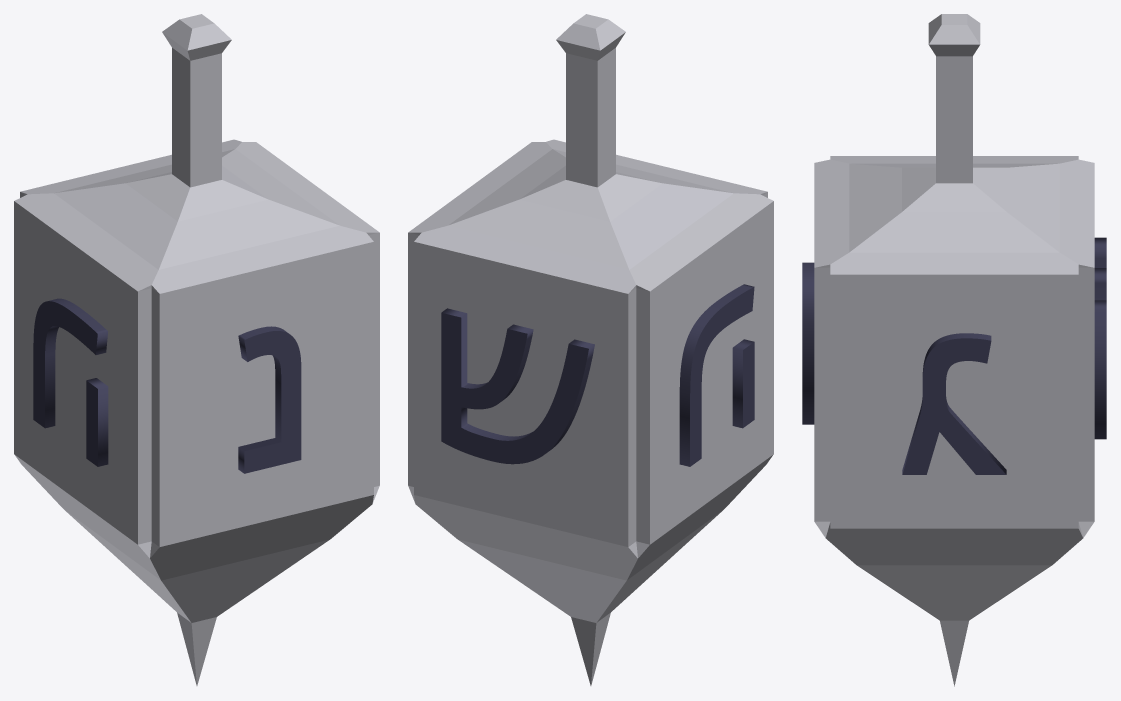
File: Dreidel_Metal.glb
3 views of the same model, side by side, from view 1: azimuth 30°, elevation 25°; view 2: azimuth 150°, elevation 25°; view 3: azimuth 270°, elevation 25° (orthographic).
Parts seen in each view (by area): view 1: Dreidel_Metal, Dreidel_Metal_Letter_ה, Dreidel_Metal_Letter_נ; view 2: Dreidel_Metal, Dreidel_Metal_Letter_ש, Dreidel_Metal_Letter_ה; view 3: Dreidel_Metal, Dreidel_Metal_Letter_ג, Dreidel_Metal_Letter_ש, Dreidel_Metal_Letter_נ.
Part boxes in pixels (x1,y1,x2,y2): Dreidel_Metal: (14, 14, 379, 685); Dreidel_Metal_Letter_ה: (33, 298, 108, 466); Dreidel_Metal_Letter_נ: (238, 326, 301, 473); Dreidel_Metal: (408, 14, 773, 685); Dreidel_Metal_Letter_ש: (441, 308, 594, 464); Dreidel_Metal_Letter_ה: (679, 284, 754, 466); Dreidel_Metal: (814, 14, 1094, 686); Dreidel_Metal_Letter_ג: (902, 333, 1006, 474); Dreidel_Metal_Letter_ש: (1094, 237, 1106, 439); Dreidel_Metal_Letter_נ: (802, 262, 814, 424).
Size of the model in its own units: 2.28 by 5.52 by 2.28.
